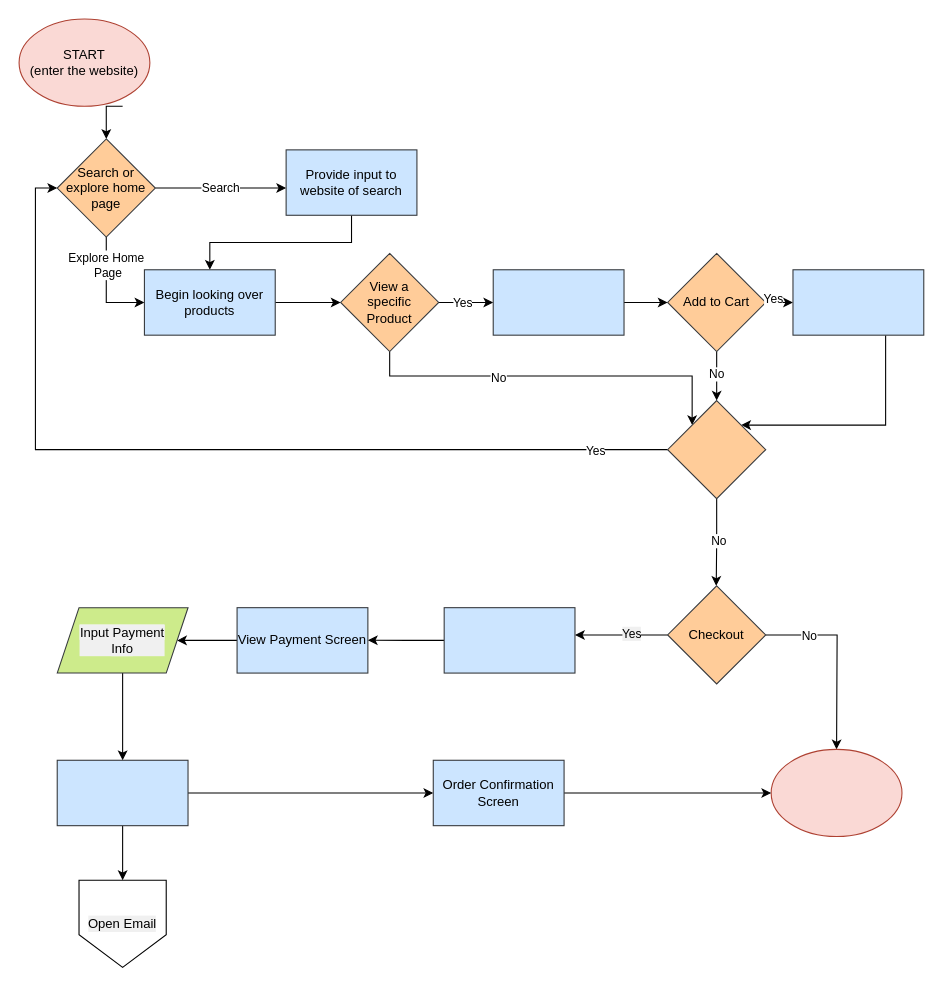
Some shapes in this 943 by 986 pixel diagram are drawn without their labels. The shapes that lost their labels are listed below. From the top down, each one's box as (x1, y1, x2, y2) in pixels, then its label:
(492, 269, 624, 335): Product Page opens
(792, 269, 924, 335): Added to Cart Confirmation
(667, 399, 766, 499): Continue Shopping
(443, 607, 575, 673): View Cart Screen
(56, 759, 188, 826): Make Payment
(770, 748, 902, 837): END (Leave Website)
